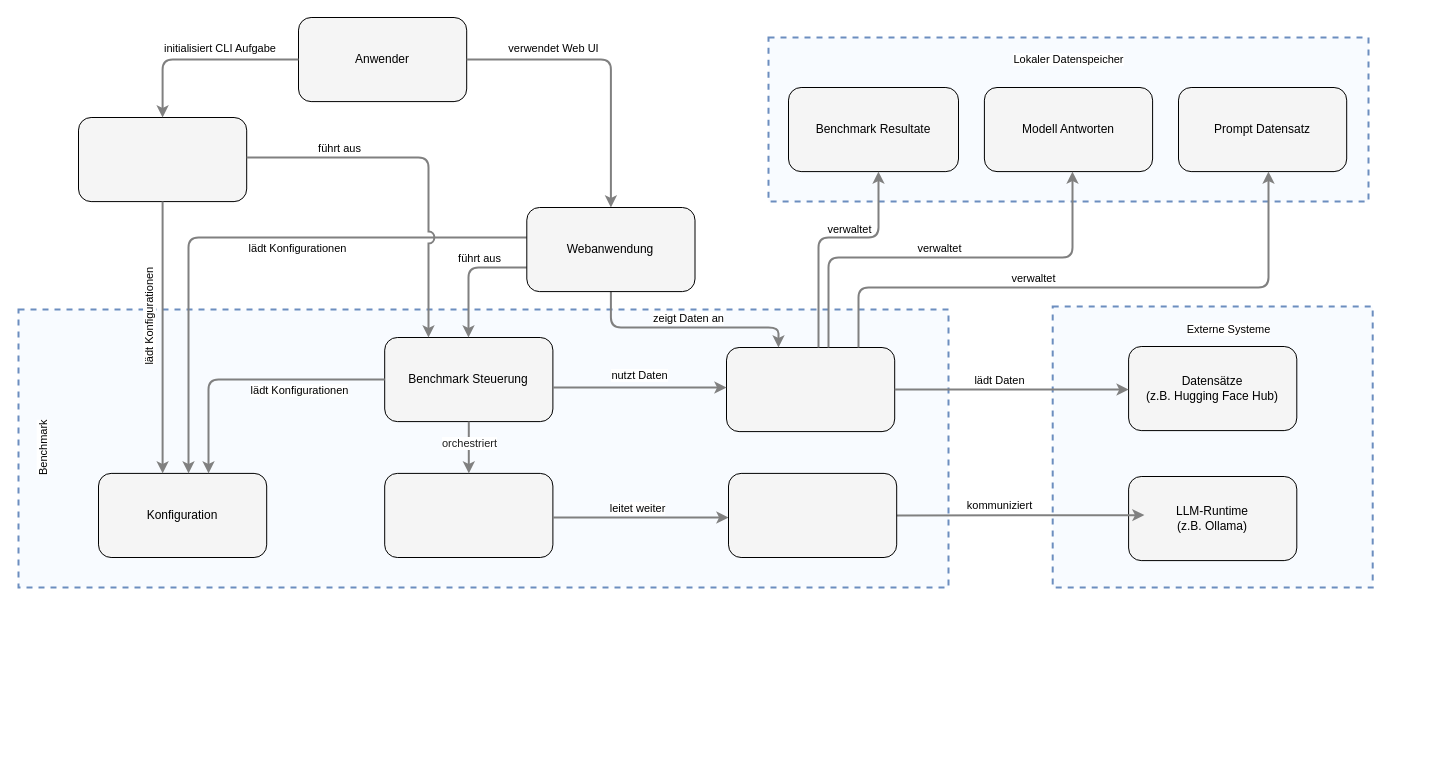
The diagram is 1451 pixels wide and 770 high, and some of its shapes have lost their labels. The box of each missing label's shape, as (x1, y1, x2, y2) in pixels:
Datenmanagement: (726, 346, 895, 432)
Evaluations-Engine: (384, 472, 553, 558)
Kommandozeilen-Schnittstelle (CLI): (78, 116, 247, 202)
LLM-API-Client: (728, 472, 897, 558)
